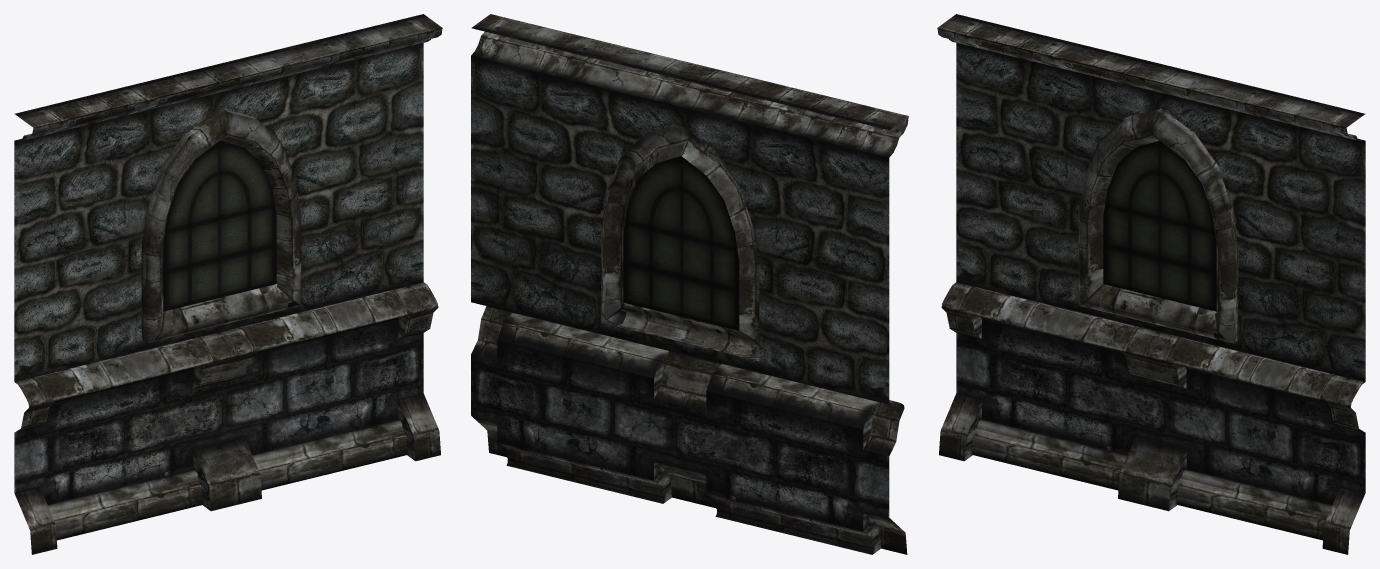
File: window_yellow01_off.DAE
3 views of the same model, side by side, from view 1: azimuth 30°, elevation 25°; view 2: azimuth 150°, elevation 25°; view 3: azimuth 330°, elevation 25° (orthographic). The views are drawn at different scales.
Parts seen in each view (by area): view 1: Object129, Object130, Object131; view 2: Object129, Object130, Object131; view 3: Object129, Object130, Object131.
Part boxes in pixels (x1,y1,x2,y2): Object129: (14,14,442,554); Object130: (163,140,276,311); Object131: (141,108,301,343); Object129: (471,14,908,554); Object130: (623,156,739,330); Object131: (601,124,759,361); Object129: (937,14,1365,554); Object130: (1103,140,1216,311); Object131: (1078,108,1238,343).
Size of the model in its own units: 4 by 4 by 0.3222.
